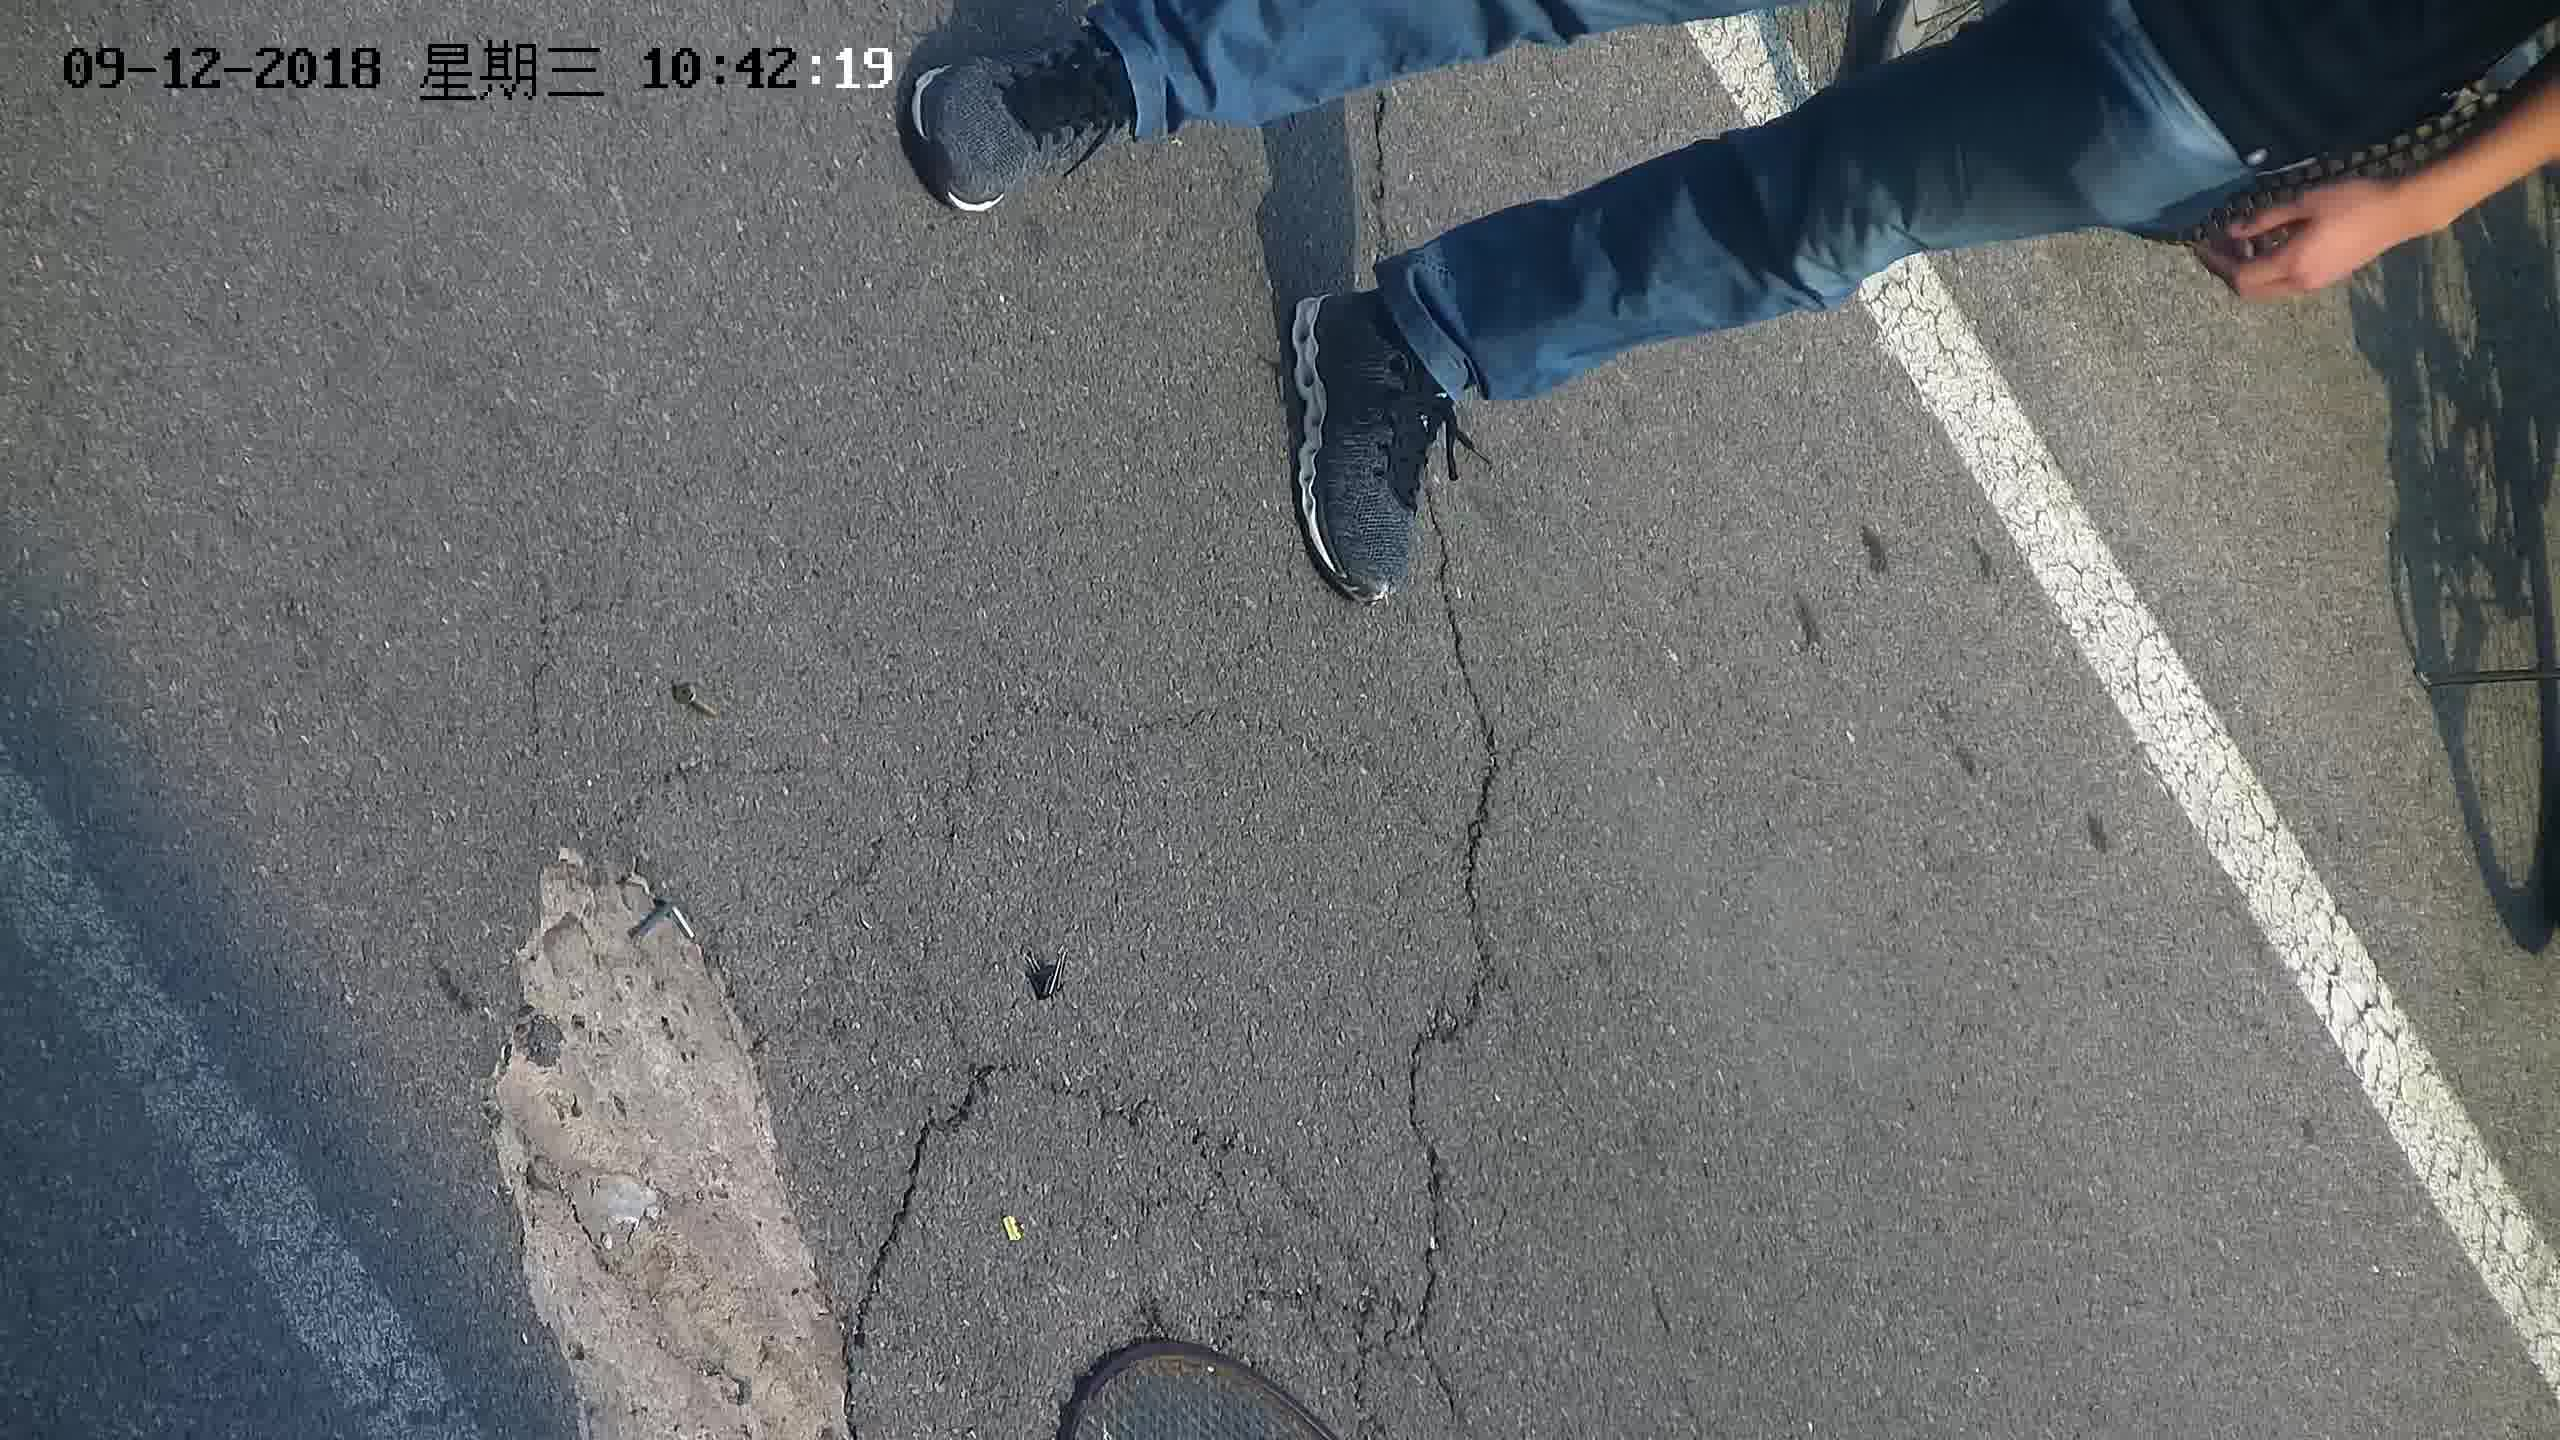L_stick: (617, 893, 705, 953)
clip_B: (1013, 937, 1078, 1004)
clip_Y: (993, 1210, 1044, 1248)
nail: (665, 673, 730, 730)
